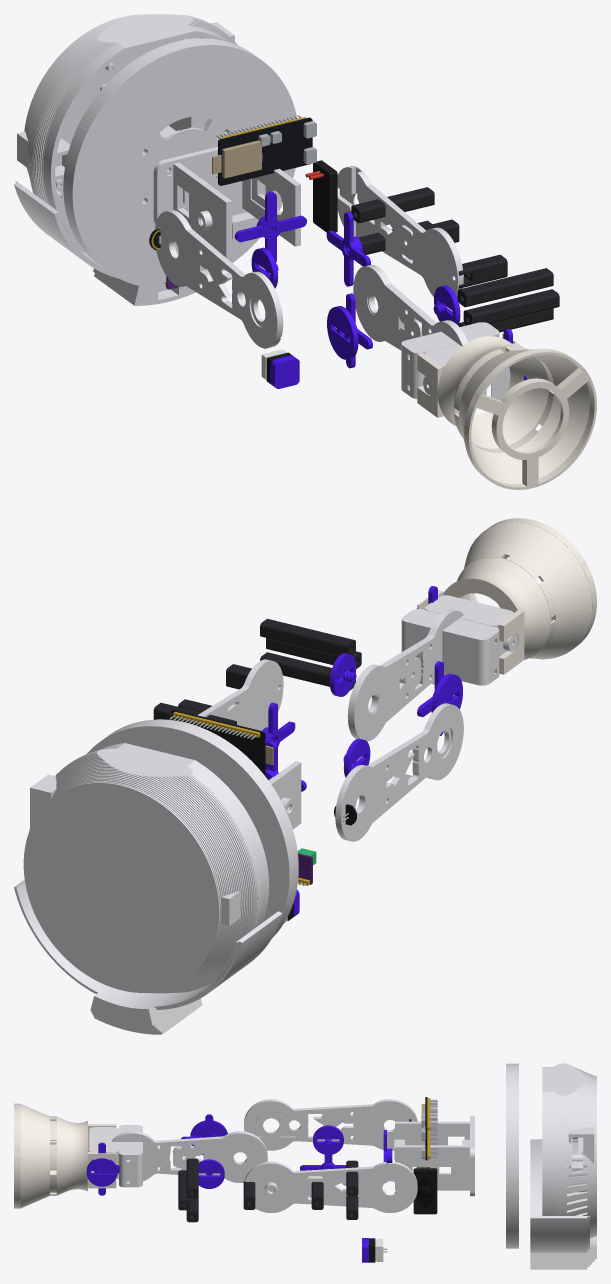
Rendered from hotaru2-exploded.glb.
The picture shows the model from 3 angles, top to bottom: view 1: azimuth 30°, elevation 25°; view 2: azimuth 150°, elevation 25°; view 3: azimuth 270°, elevation 25°; orthographic projection. The views are drawn at different scales.
Visible parts, largest first — view 1: v2-disc, shade, v2-tub, v2-tower, v2-link1-out, v2-link1-in, v2-link2-spacers, v2-link2-in, v2-head, esp32-pcb, v2-link1-spacers, horn-pan (+8 smaller); view 2: v2-tub, shade, v2-disc, v2-link1-out, v2-head, v2-link2-in, v2-link2-spacers, v2-link1-in, v2-tower, esp32-pcb, v2-screw-elbow, v2-link2-out (+4 smaller); view 3: v2-tub, shade, v2-link1-in, v2-link1-out, v2-link2-out, v2-tower, v2-disc, v2-head, v2-link2-spacers, v2-link1-spacers, v2-link1-ledges, spk-frame (+8 smaller).
Part boxes in pixels (x1,y1,x2,y2): v2-disc: (63, 38, 296, 288); shade: (417, 333, 596, 489); v2-tub: (14, 14, 237, 305); v2-tower: (153, 146, 300, 262); v2-link1-out: (155, 210, 283, 348); v2-link1-in: (337, 166, 463, 299); v2-link2-spacers: (457, 268, 559, 332); v2-link2-in: (353, 265, 467, 350); v2-head: (401, 322, 510, 399); esp32-pcb: (218, 117, 312, 185); v2-link1-spacers: (351, 187, 434, 254); horn-pan: (234, 191, 306, 262); v2-tub: (14, 743, 282, 1034); shade: (417, 518, 596, 674); v2-disc: (87, 719, 298, 937); v2-link1-out: (335, 703, 463, 841); v2-head: (401, 595, 518, 685); v2-link2-in: (349, 609, 463, 741); v2-link2-spacers: (260, 618, 361, 690); v2-link1-in: (197, 659, 283, 730); v2-tower: (268, 761, 301, 829); esp32-pcb: (171, 709, 265, 776); v2-screw-elbow: (329, 653, 356, 696); v2-link2-out: (347, 609, 455, 739); v2-tub: (530, 1063, 596, 1269); shade: (14, 1103, 116, 1208); v2-link1-in: (244, 1161, 417, 1212); v2-link1-out: (244, 1099, 417, 1150); v2-link2-out: (112, 1131, 267, 1182); v2-tower: (394, 1116, 474, 1196); v2-disc: (506, 1063, 518, 1248); v2-head: (89, 1125, 142, 1187); v2-link2-spacers: (178, 1158, 198, 1222); v2-link1-spacers: (346, 1160, 358, 1219); v2-link1-ledges: (243, 1181, 323, 1209); spk-frame: (413, 1168, 437, 1214).
Size of the model in its own units: 176 by 175 by 490.
